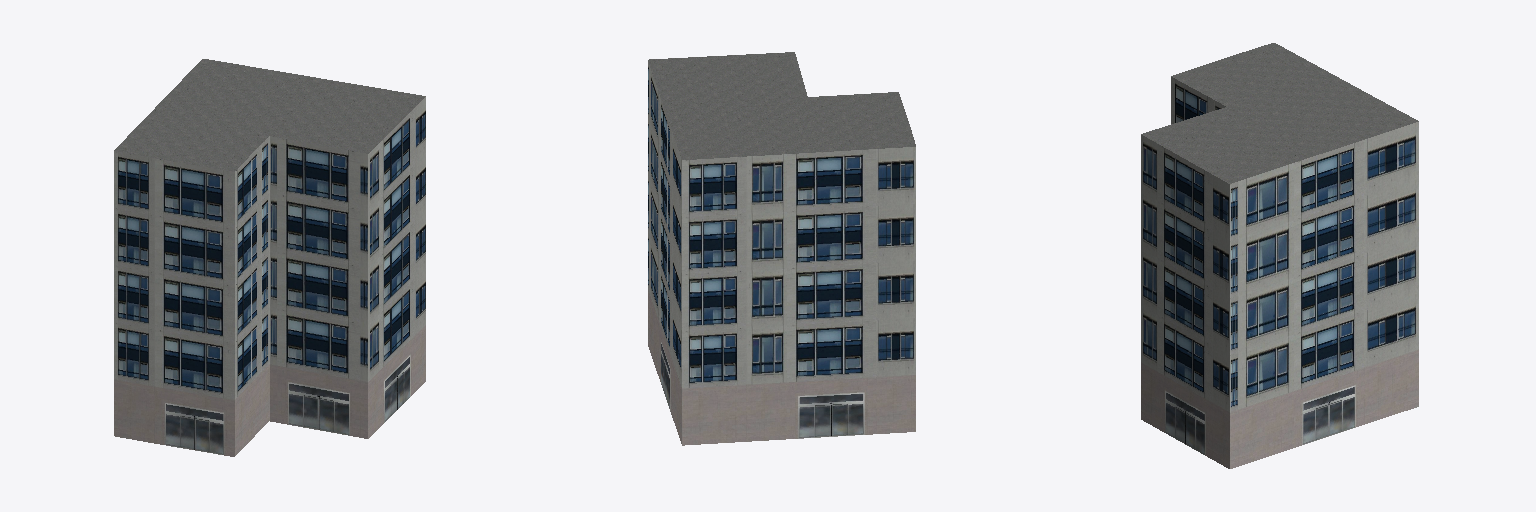
3 views of the same model, side by side, from view 1: azimuth 30°, elevation 25°; view 2: azimuth 150°, elevation 25°; view 3: azimuth 270°, elevation 25° (orthographic).
Visible parts, largest first — view 1: BuildingMaster_[number redacted]_0, BuildingMaster_[number redacted]_1; view 2: BuildingMaster_[number redacted]_0, BuildingMaster_[number redacted]_1; view 3: BuildingMaster_[number redacted]_0, BuildingMaster_[number redacted]_1.
Boxes of the visible parts, <box> form: BuildingMaster_[number redacted]_0: <box>114,97,425,456</box>; BuildingMaster_[number redacted]_1: <box>114,59,425,171</box>; BuildingMaster_[number redacted]_0: <box>648,62,915,445</box>; BuildingMaster_[number redacted]_1: <box>648,52,915,159</box>; BuildingMaster_[number redacted]_0: <box>1141,77,1418,468</box>; BuildingMaster_[number redacted]_1: <box>1141,43,1418,183</box>.
Bounding box in the file's own units: 18.67 × 17.5 × 15.49.
Materials: 2 (2 with a texture image).